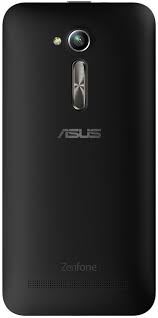asus: (1, 1, 158, 318)
